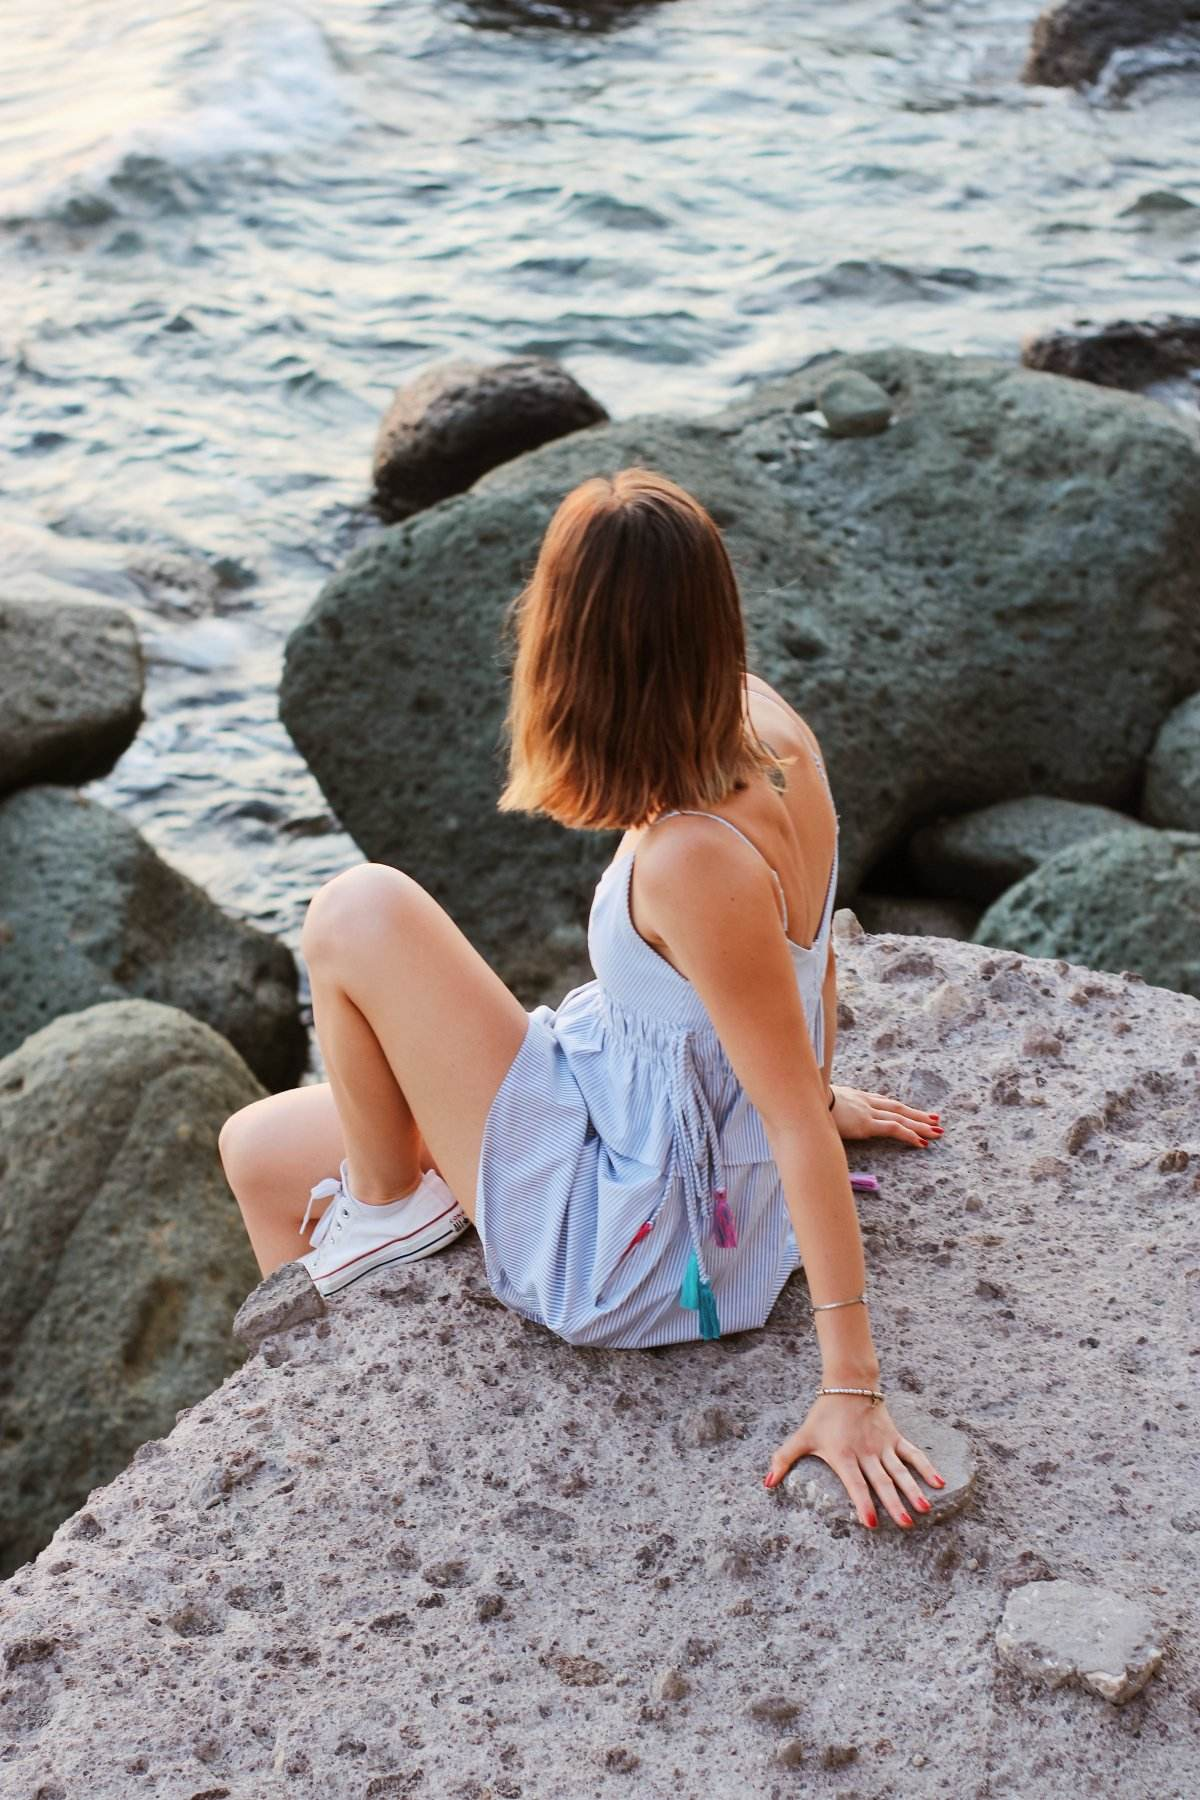person: (172, 421, 987, 1448)
